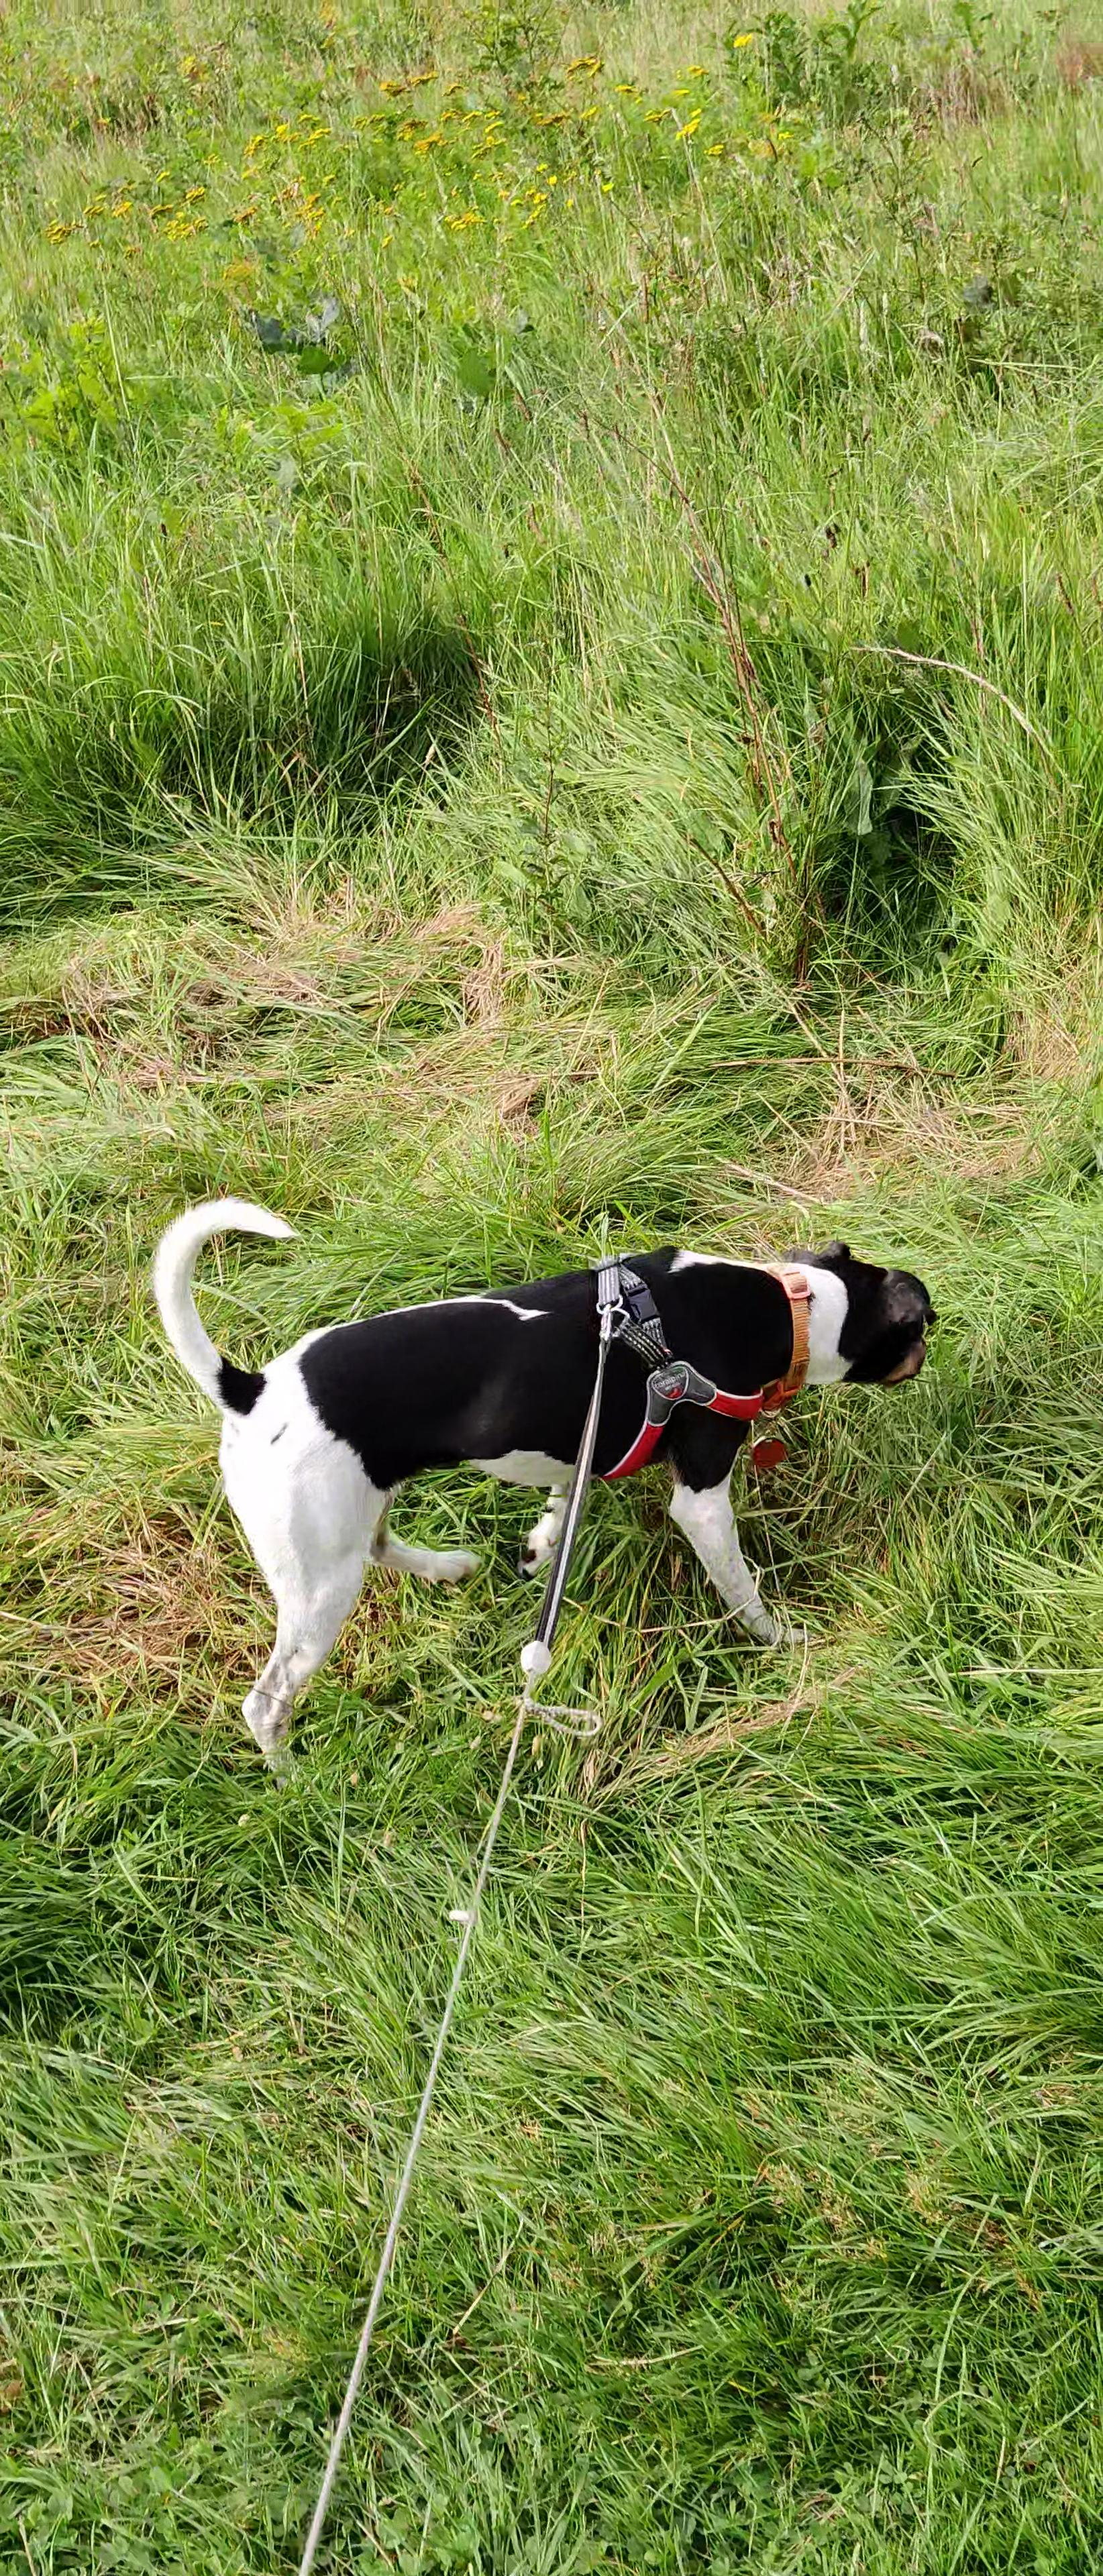Dog: (141, 1183, 944, 1774)
